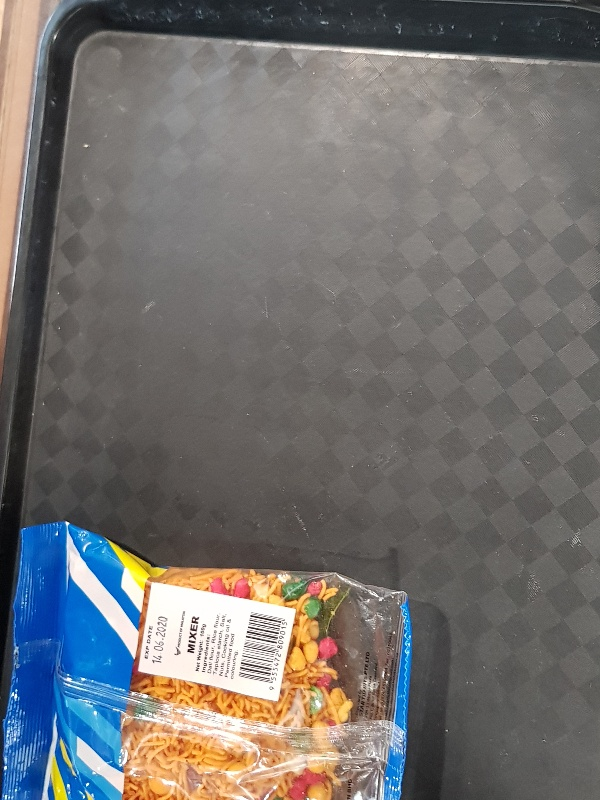Star Tidbits Mixer: (1, 521, 411, 800)
